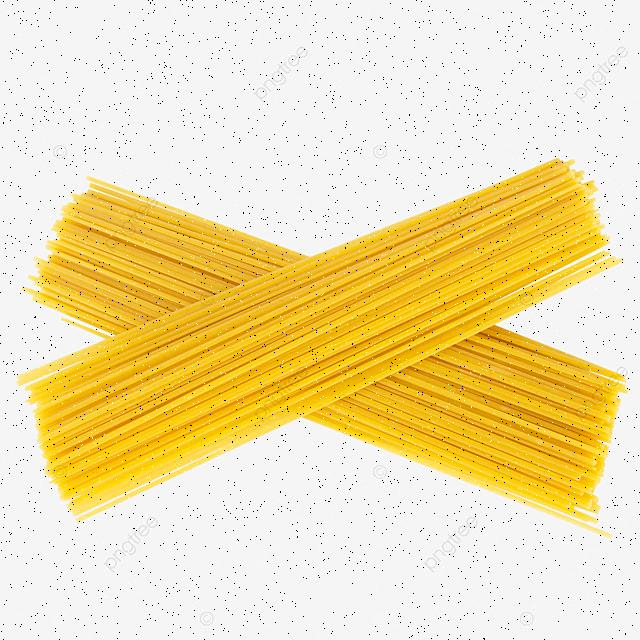Noodles: (11, 135, 634, 557), (13, 158, 631, 553)
